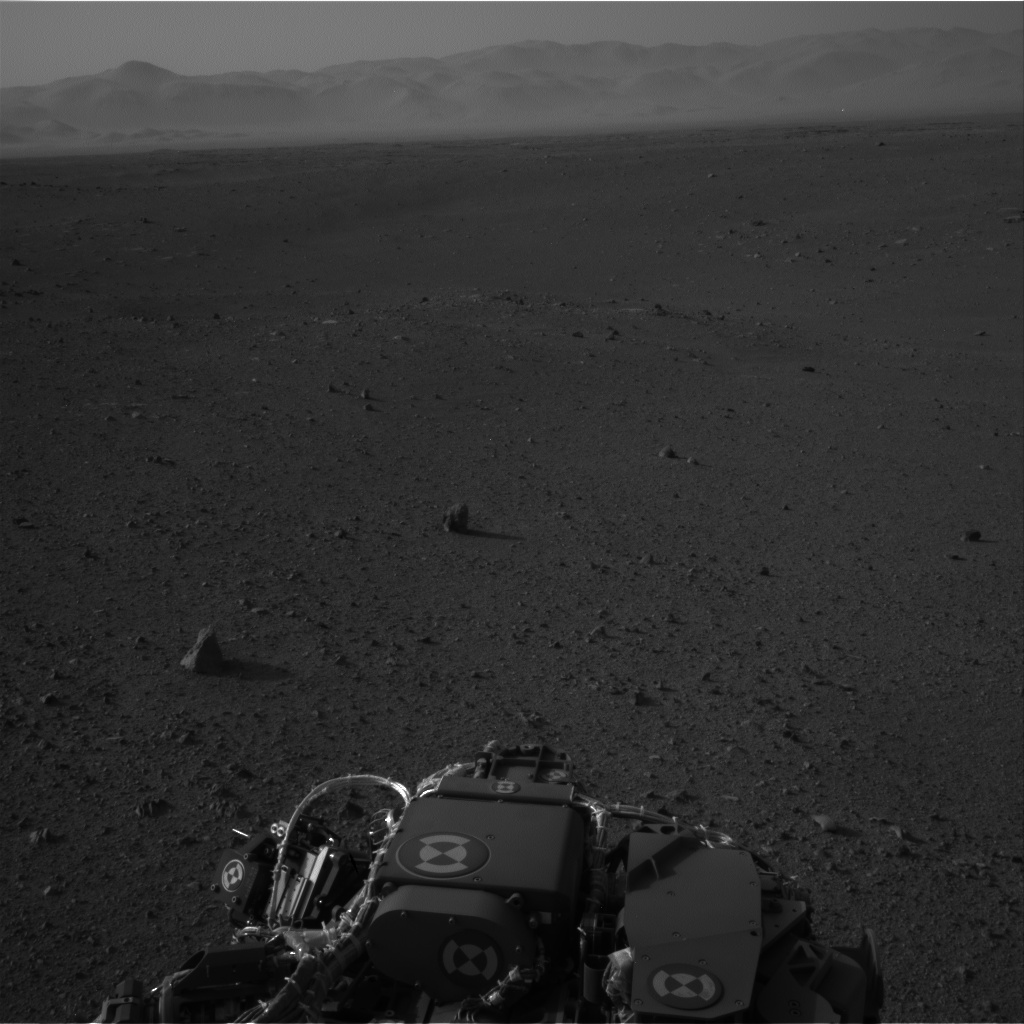soil: (4, 300, 1020, 998)
